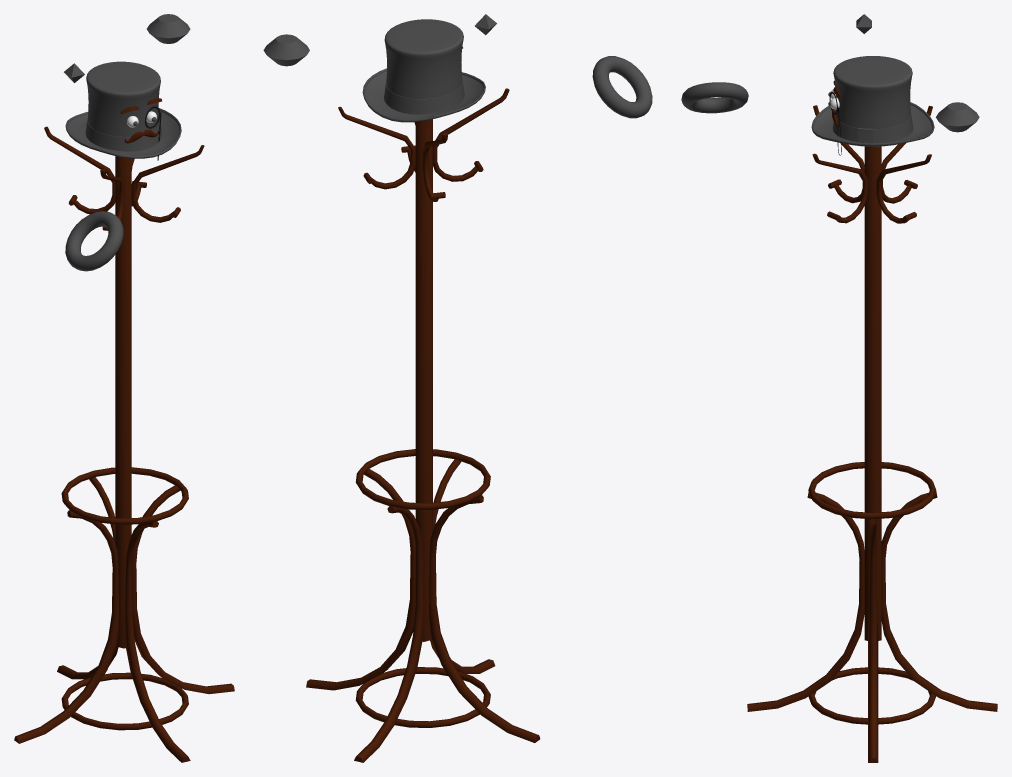
Rendered from floating_shapes6.glb.
3 views of the same model, side by side, from view 1: azimuth 30°, elevation 25°; view 2: azimuth 150°, elevation 25°; view 3: azimuth 270°, elevation 25° (orthographic). The views are drawn at different scales.
Visible parts, largest first — view 1: CoatHanger, CylinderBase, Shape001, ChamferCyl001; view 2: CoatHanger, CylinderBase, Shape001, ChamferCyl001; view 3: CoatHanger, CylinderBase, Shape001, ChamferCyl001.
Boxes of the visible parts, x1=… form: CoatHanger: x1=14, y1=126, x2=234, y2=762; CylinderBase: x1=65, y1=61, x2=181, y2=158; Shape001: x1=65, y1=211, x2=123, y2=271; ChamferCyl001: x1=147, y1=14, x2=190, y2=43; CoatHanger: x1=306, y1=88, x2=540, y2=762; CylinderBase: x1=362, y1=19, x2=485, y2=122; Shape001: x1=592, y1=56, x2=652, y2=118; ChamferCyl001: x1=263, y1=34, x2=309, y2=66; CoatHanger: x1=747, y1=105, x2=997, y2=762; CylinderBase: x1=811, y1=56, x2=934, y2=146; Shape001: x1=681, y1=82, x2=748, y2=113; ChamferCyl001: x1=936, y1=102, x2=979, y2=132.
Size of the model in its own units: 232 by 617 by 264.
